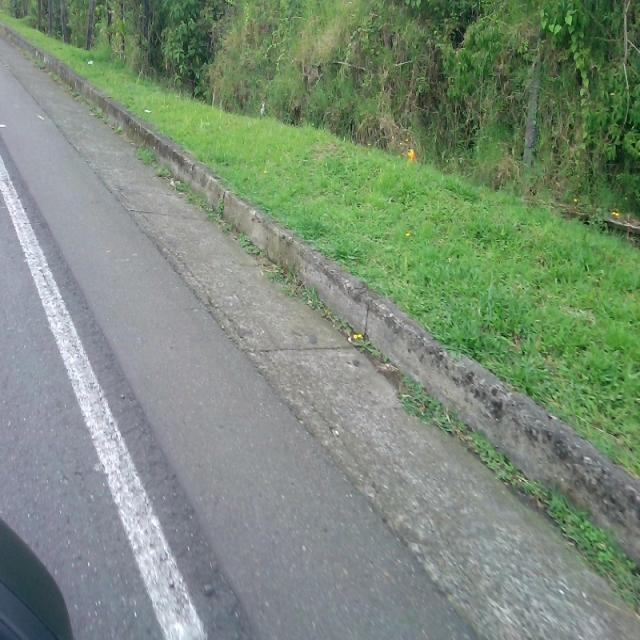DITCH: (1, 23, 638, 638), (1, 41, 354, 638)
